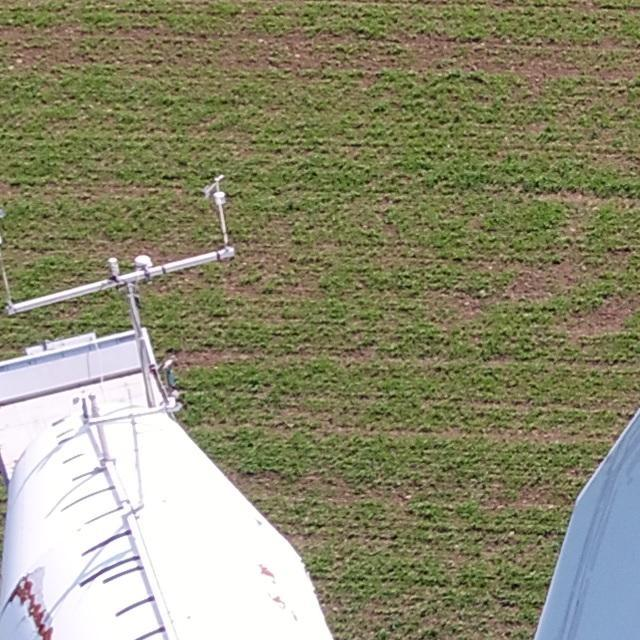damage: (6, 566, 55, 638), (257, 560, 275, 579), (270, 592, 285, 607)
